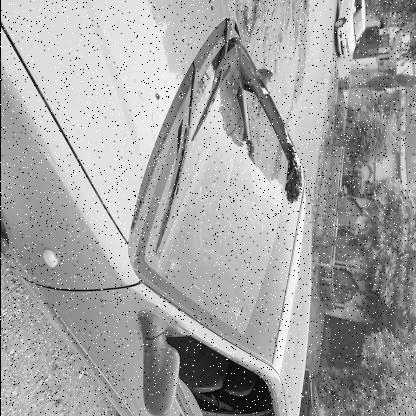no_seatbelt: (207, 212, 277, 252)
